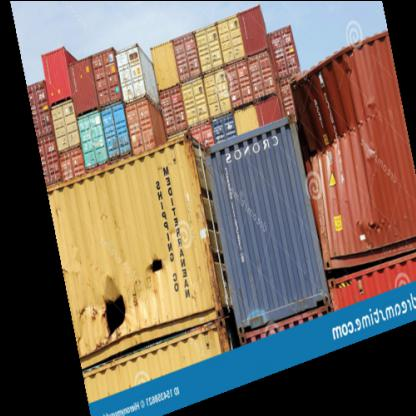Damage: (288, 62, 338, 163), (321, 194, 404, 246), (96, 271, 142, 339), (136, 246, 176, 278)
